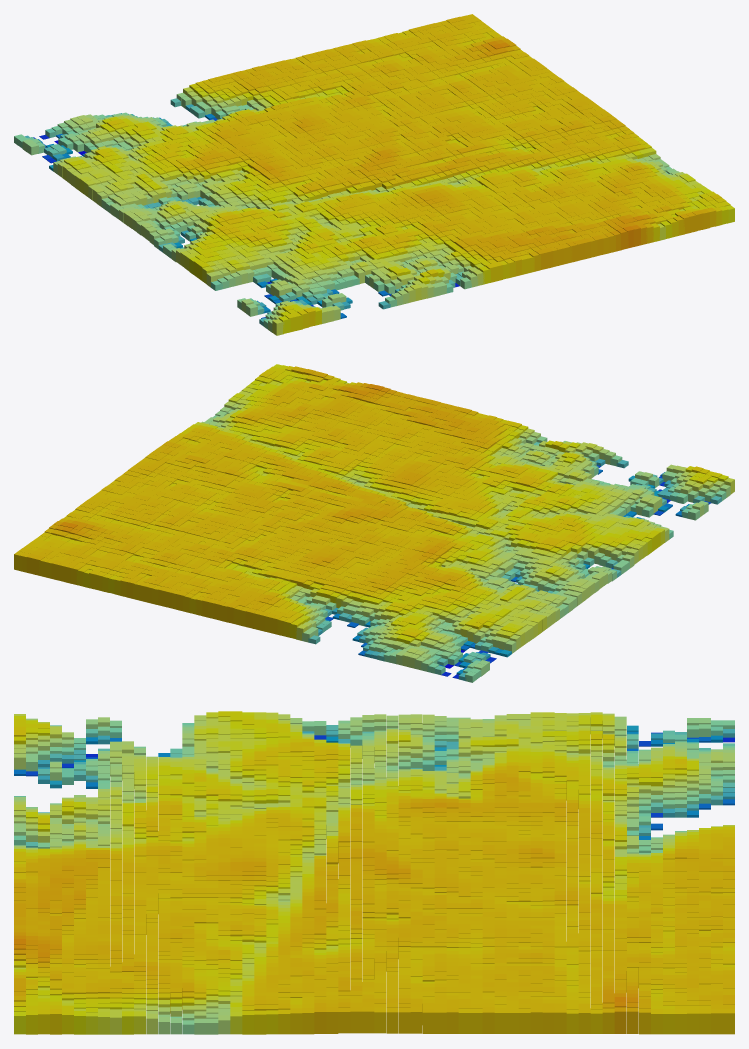
Rendered from population.glb.
The picture shows the model from 3 angles, top to bottom: view 1: azimuth 30°, elevation 25°; view 2: azimuth 150°, elevation 25°; view 3: azimuth 270°, elevation 25°; orthographic projection. The views are drawn at different scales.
Visible parts, largest first — view 1: population; view 2: population; view 3: population.
Part boxes in pixels (x1,y1,x2,y2): population: (14, 14, 734, 335); population: (14, 364, 734, 682); population: (14, 711, 734, 1034).
Bounding box in the file's own units: 6075 × 257 × 6028.
